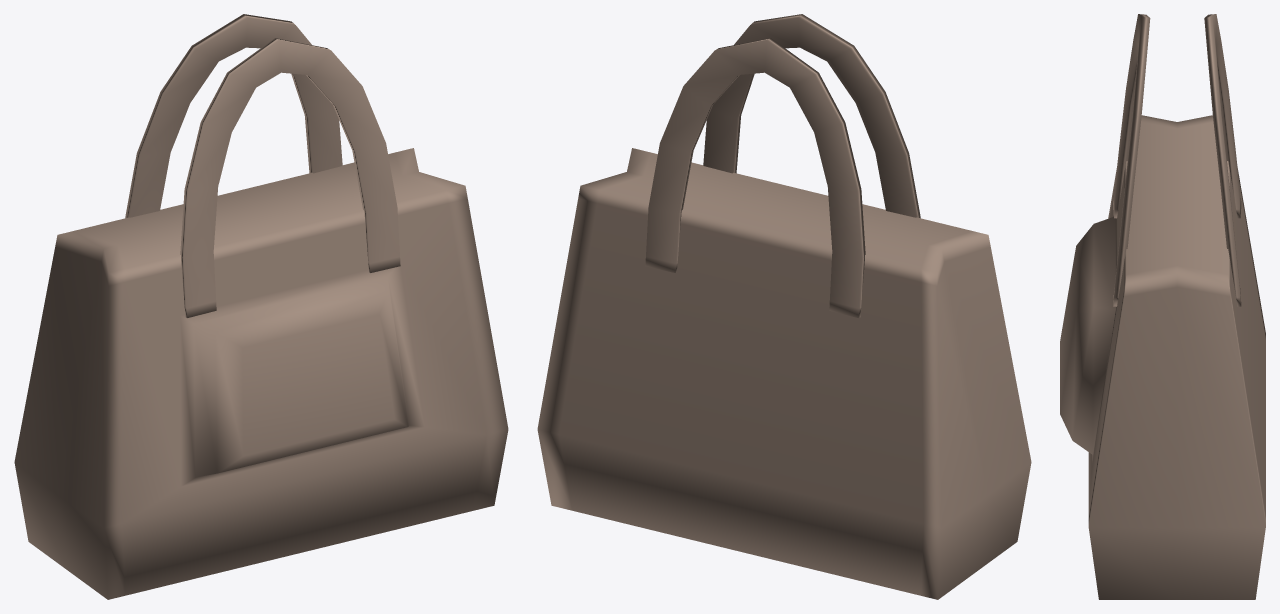
File: cherrys purse.fbx
3 renders of one model, left to right at view 1: azimuth 30°, elevation 25°; view 2: azimuth 150°, elevation 25°; view 3: azimuth 270°, elevation 25°, orthographic.
Parts seen in each view (by area): view 1: cherrys purse; view 2: cherrys purse; view 3: cherrys purse.
Boxes of the visible parts, box(x1,y1,x2,y2) form: cherrys purse: box(14, 14, 508, 599); cherrys purse: box(537, 14, 1031, 599); cherrys purse: box(1060, 14, 1265, 599).
Size of the model in its own units: 0.477 by 0.5561 by 0.2119.
